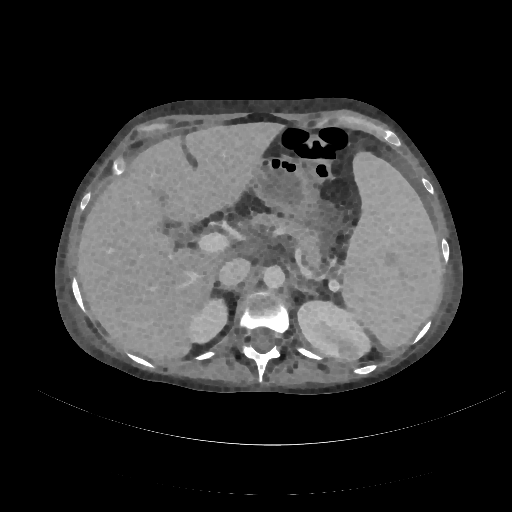Lesion: (336, 335, 361, 364)
